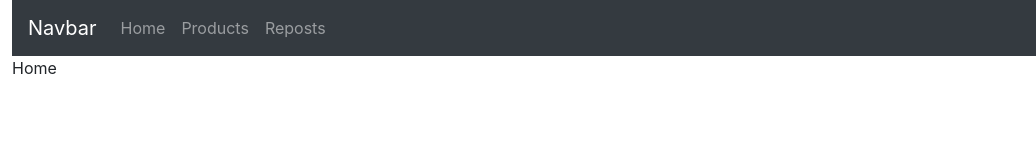
Test case: Navigation in App › should navigate to the reports page
Click the link with test id "reports-link" at point(295, 28), box [265,18,326,38]
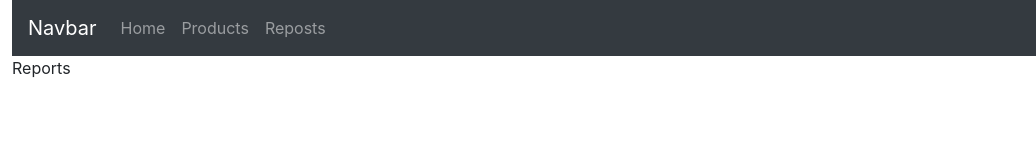
Expected: the text "Reports" is shown, [12,58,71,78]
